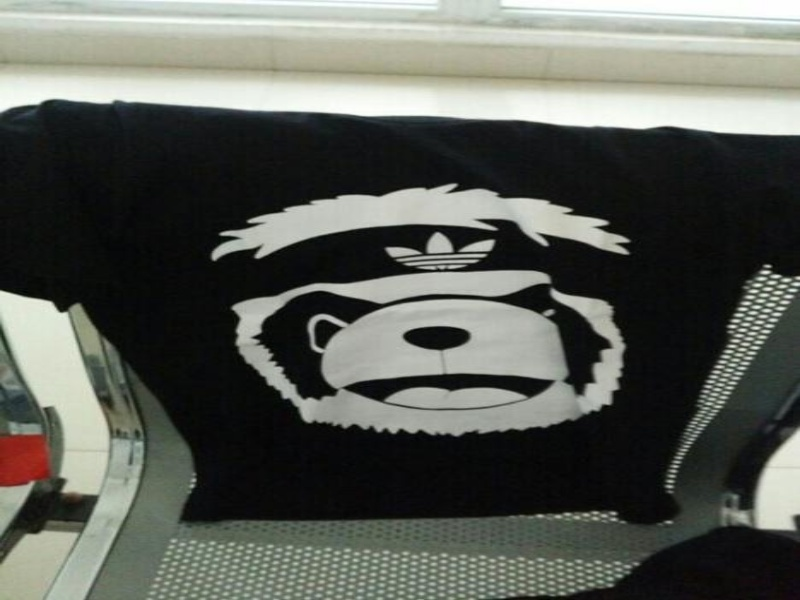short_sleeved_shirt: (2, 100, 795, 524)
